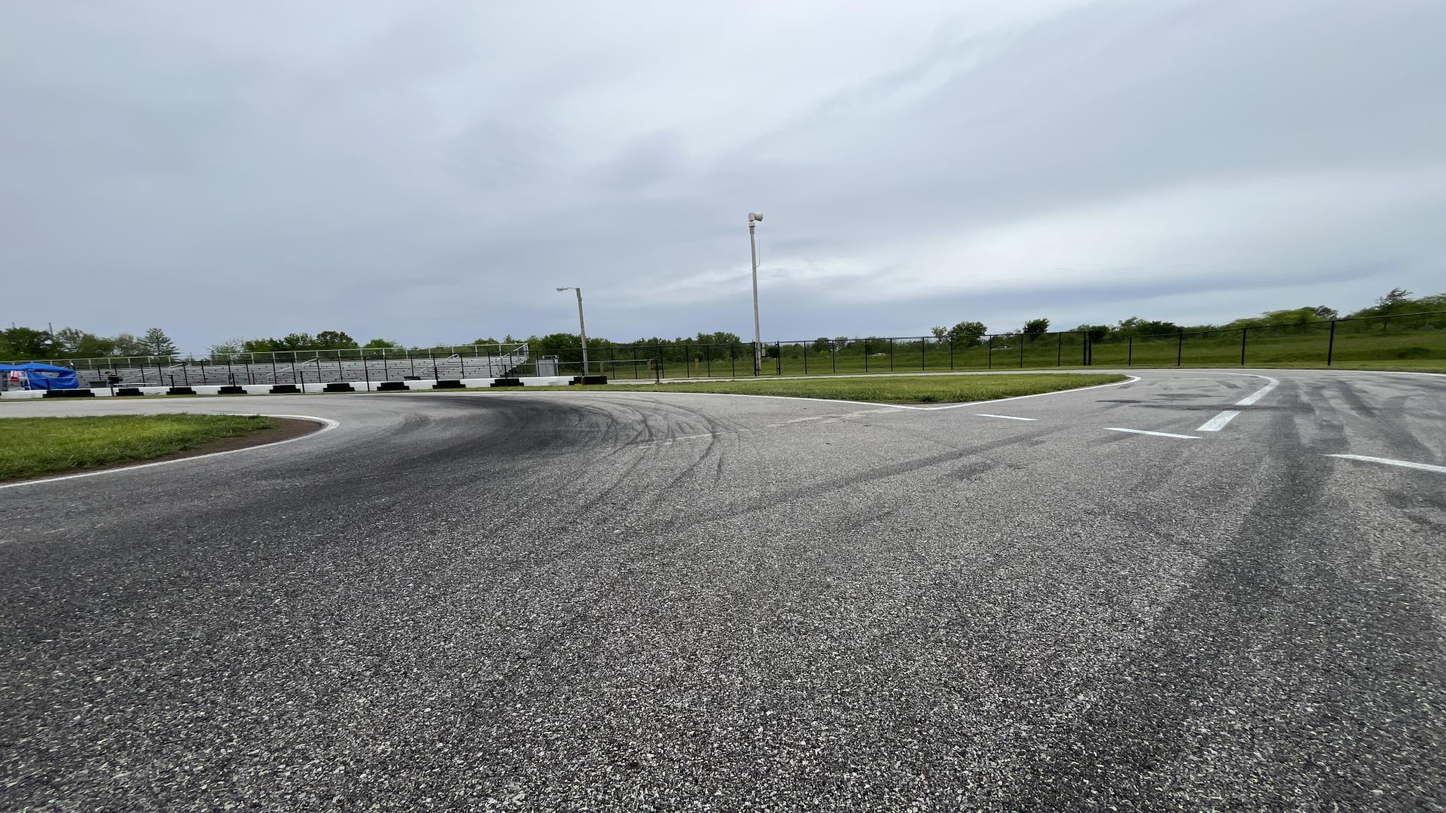white-line: (377, 376, 1140, 410), (0, 414, 338, 489), (1197, 373, 1275, 431), (1323, 455, 1445, 472), (1104, 427, 1200, 440), (975, 414, 1039, 421)
